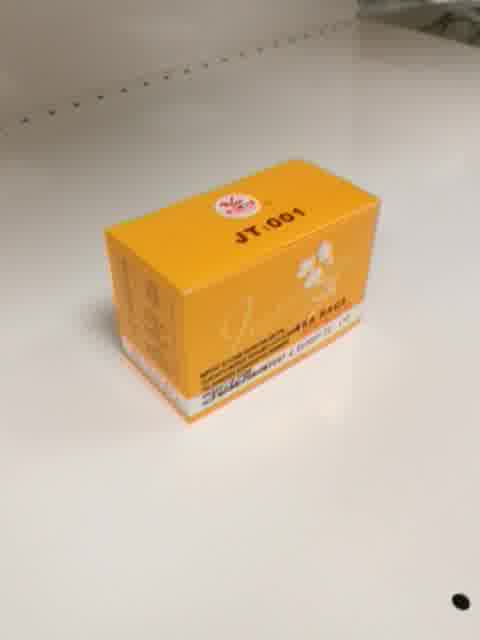jasminetea: (103, 156, 381, 424)
